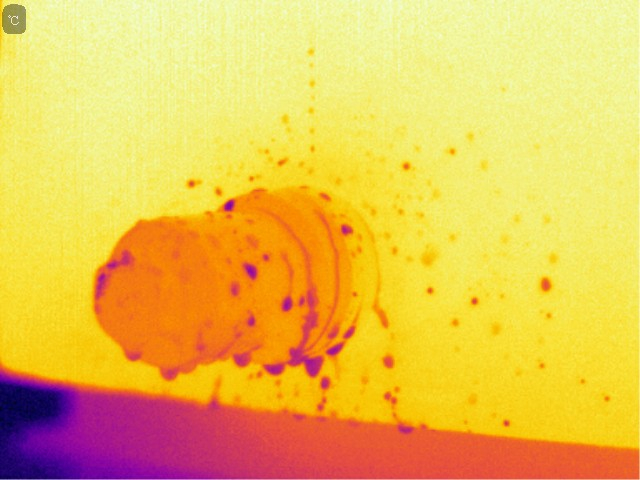Water: (361, 225, 390, 336), (292, 231, 319, 347), (319, 220, 338, 343), (302, 351, 326, 380), (259, 359, 291, 376), (286, 345, 307, 370), (240, 258, 262, 281), (157, 363, 182, 383), (230, 349, 254, 369), (121, 344, 144, 363), (391, 418, 415, 436), (179, 359, 201, 376), (279, 294, 297, 314), (241, 311, 258, 332), (325, 340, 345, 357), (229, 279, 244, 301), (380, 389, 402, 404), (379, 354, 395, 374), (312, 397, 329, 412), (221, 197, 239, 211), (316, 190, 334, 203), (186, 174, 198, 190), (210, 183, 224, 195)
